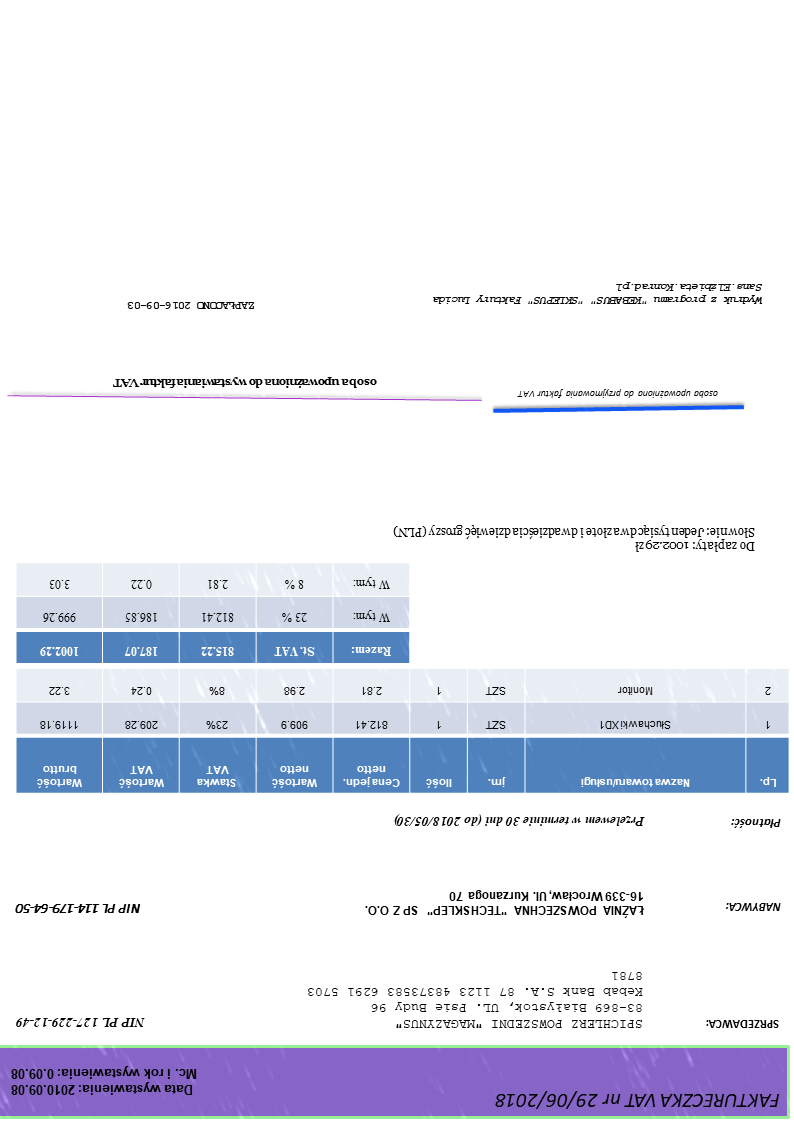Table: (14, 667, 792, 795), (15, 562, 411, 665)
TextBox: (305, 969, 645, 1033), (392, 523, 758, 555), (431, 281, 765, 309), (364, 889, 646, 921), (493, 1089, 782, 1112), (9, 1065, 200, 1099), (391, 811, 648, 830), (111, 375, 379, 393), (516, 387, 722, 401), (14, 1014, 147, 1031), (12, 901, 143, 916), (126, 298, 257, 313), (703, 1017, 782, 1032), (722, 900, 785, 915), (729, 816, 783, 832)
